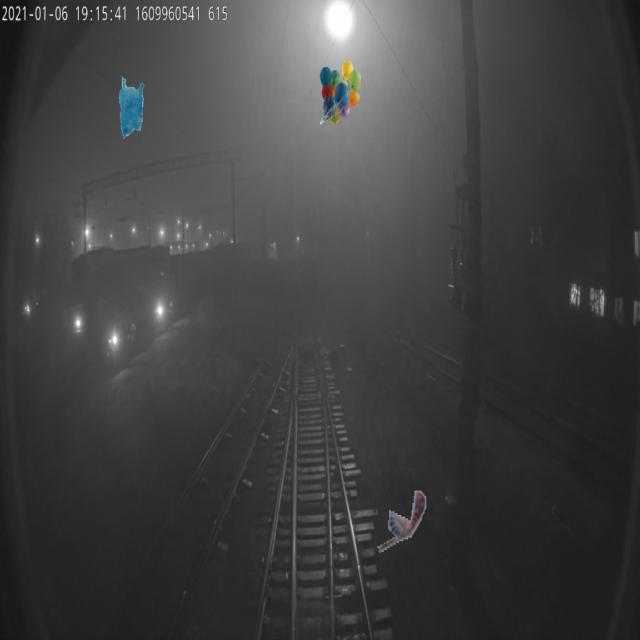balloon: (319, 60, 362, 124)
floating object: (375, 489, 427, 553)
plastic bag: (119, 76, 145, 140)
